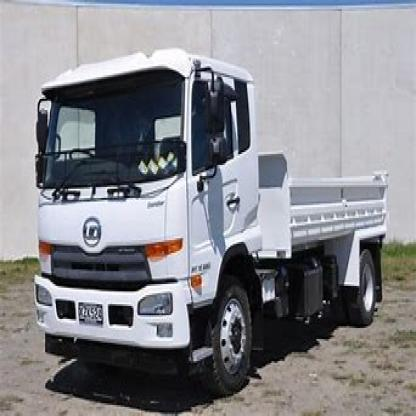dump_truck: (30, 38, 395, 407)
